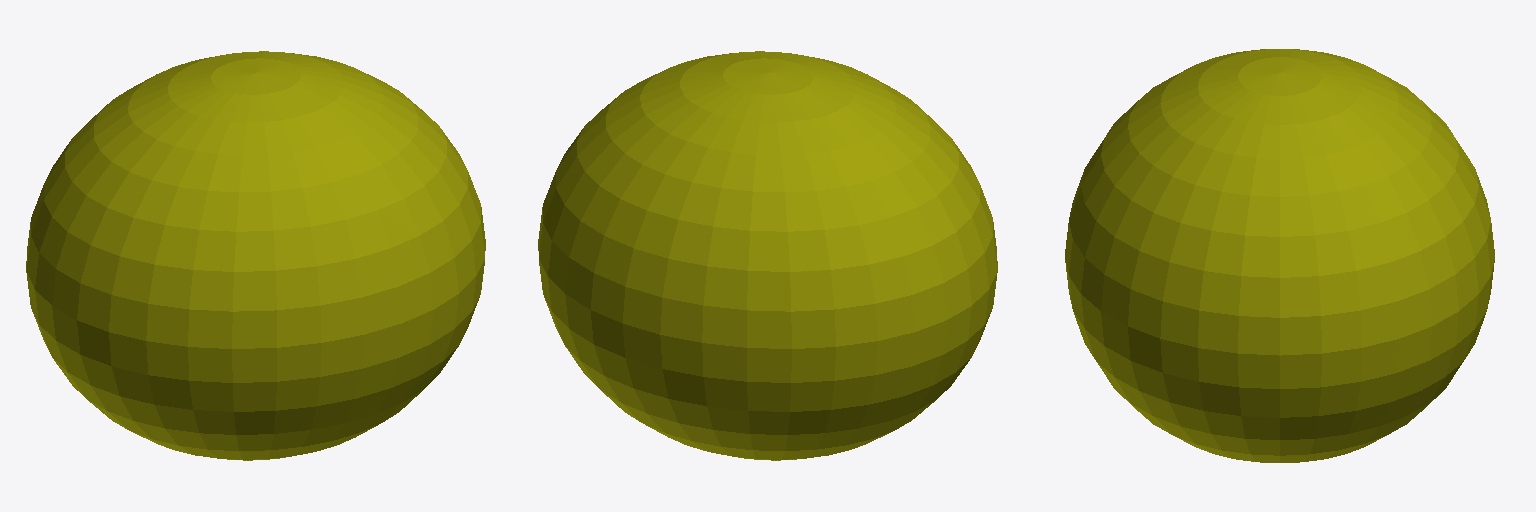
The model's file is moya_airpot_y.obj.
The picture shows the model from 3 angles: view 1: azimuth 30°, elevation 25°; view 2: azimuth 150°, elevation 25°; view 3: azimuth 270°, elevation 25°; orthographic projection.
Visible parts, largest first — view 1: Sphere_Sphere.005_Sphere_Sphere.008; view 2: Sphere_Sphere.005_Sphere_Sphere.008; view 3: Sphere_Sphere.005_Sphere_Sphere.008.
Part boxes in pixels (bbox=[...]): Sphere_Sphere.005_Sphere_Sphere.008: bbox=[26, 51, 485, 460]; Sphere_Sphere.005_Sphere_Sphere.008: bbox=[538, 51, 997, 460]; Sphere_Sphere.005_Sphere_Sphere.008: bbox=[1065, 49, 1494, 462].
Size of the model in its own units: 0.2297 by 0.1969 by 0.21.